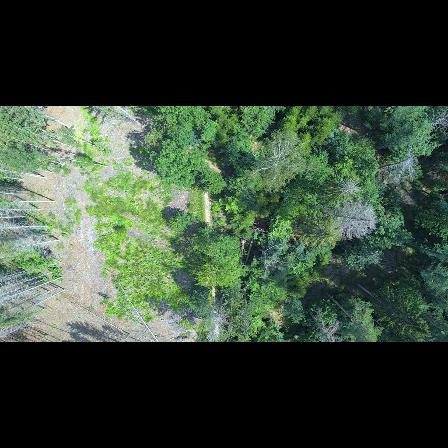Dead: (249, 133, 305, 190), (328, 202, 378, 242), (379, 146, 424, 182), (309, 302, 341, 342), (203, 294, 228, 342), (332, 174, 365, 198), (424, 105, 448, 134)
